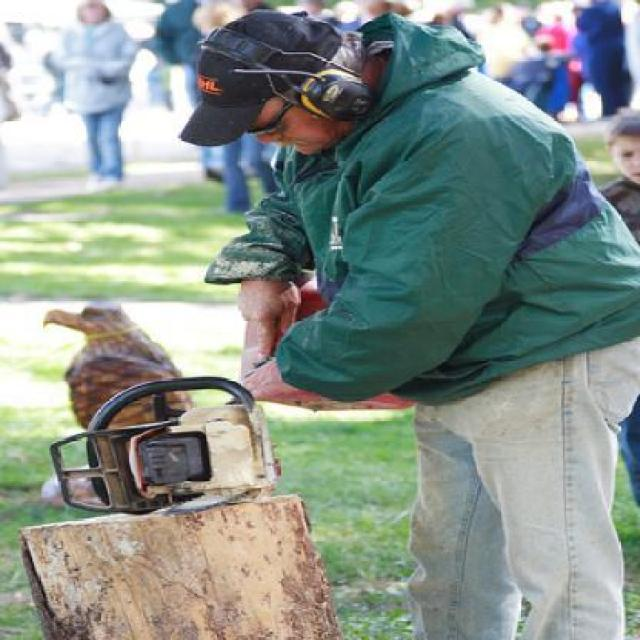Chainsaw: (52, 374, 283, 517)
